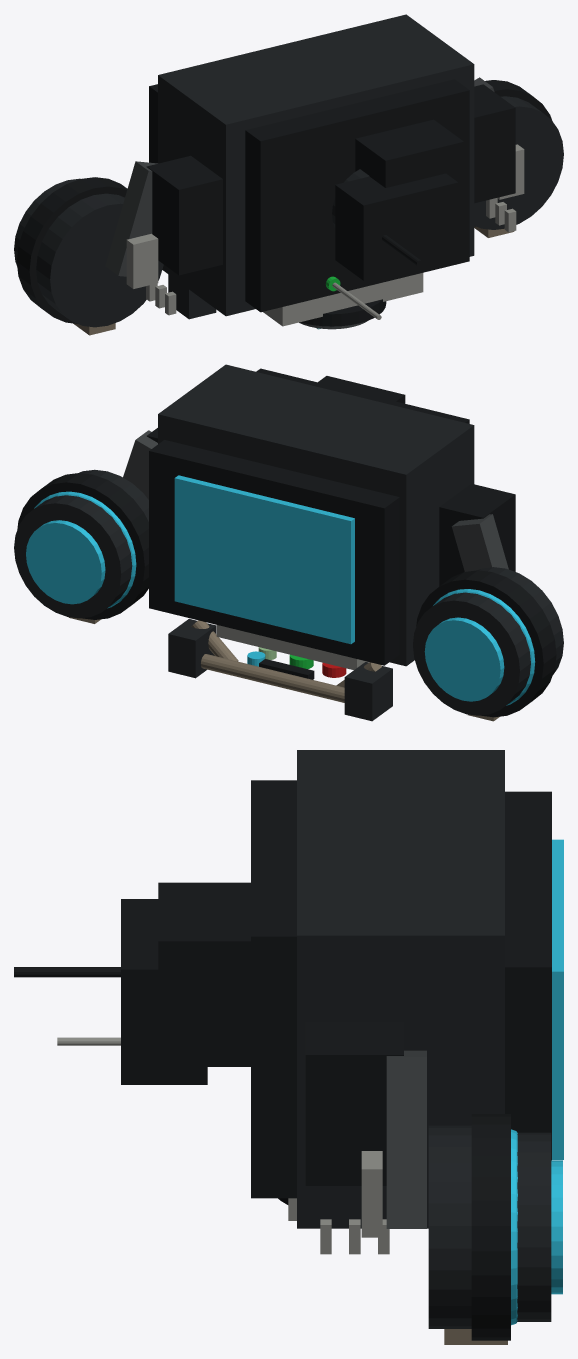
Rendered from robot_hovercraft_game_model.obj.
3 renders of one model, top to bottom at view 1: azimuth 30°, elevation 25°; view 2: azimuth 150°, elevation 25°; view 3: azimuth 270°, elevation 25°, orthographic. The views are drawn at different scales.
Parts seen in each view (by area): view 1: main_chassis, upper_deck, turret_head, pod_upper_-1, shoulder_-1, rear_block, pod_upper_1, shoulder_1, pod_mid_-1, support_arm_-1, front_panel, arm_accent_-1 (+6 smaller); view 2: main_chassis, lower_glow, lower_chassis, pod_lower_-1, pod_lower_1, pod_glow_bottom_1, pod_glow_bottom_-1, pod_mid_-1, pod_mid_1, shoulder_-1, bumper_mount_-1, bumper_bar (+12 smaller); view 3: main_chassis, upper_deck, rear_block, lower_chassis, shoulder_1, pod_mid_1, pod_upper_1, turret_head, support_arm_1, pod_lower_1, lower_glow, arm_accent_1 (+3 smaller).
Boxes of the visible parts, box(x1,y1,x2,y2) form: main_chassis: box(158, 14, 474, 316); upper_deck: box(245, 79, 469, 312); turret_head: box(335, 173, 458, 280); pod_upper_-1: box(36, 193, 163, 327); shoulder_-1: box(146, 155, 222, 275); rear_block: box(355, 119, 463, 224); pod_upper_1: box(474, 96, 563, 229); shoulder_1: box(474, 84, 515, 203); pod_mid_-1: box(16, 177, 127, 323); support_arm_-1: box(105, 161, 157, 276); front_panel: box(263, 273, 423, 326); arm_accent_-1: box(126, 233, 158, 288); main_chassis: box(158, 364, 474, 666); lower_glow: box(174, 475, 354, 644); lower_chassis: box(149, 440, 399, 665); pod_lower_-1: box(413, 592, 530, 715); pod_lower_1: box(14, 495, 132, 618); pod_glow_bottom_1: box(26, 520, 105, 604); pod_glow_bottom_-1: box(424, 617, 504, 701); pod_mid_-1: box(416, 570, 556, 717); pod_mid_1: box(17, 473, 148, 619); shoulder_-1: box(439, 483, 515, 586); bumper_mount_-1: box(344, 662, 392, 721); bumper_bar: box(201, 654, 344, 702); main_chassis: box(297, 750, 504, 1228); upper_deck: box(251, 780, 296, 1198); rear_block: box(158, 882, 250, 1066); lower_chassis: box(505, 791, 551, 1160); shoulder_1: box(305, 1022, 403, 1185); pod_mid_1: box(471, 1114, 510, 1340); pod_upper_1: box(428, 1125, 471, 1328); turret_head: box(121, 899, 207, 1084); support_arm_1: box(386, 1050, 426, 1228); pod_lower_1: box(517, 1132, 551, 1321); lower_glow: box(552, 839, 563, 1159); arm_accent_1: box(361, 1151, 382, 1237).
Size of the model in its own units: 8.06 by 3.55 by 4.76.
